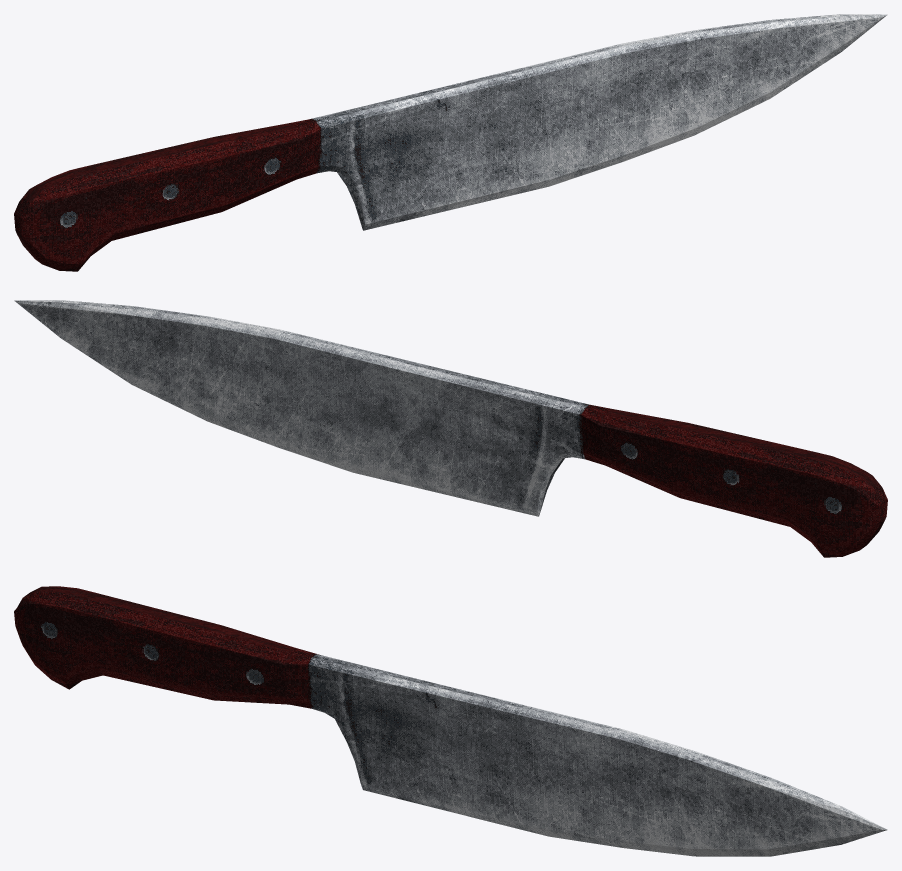
Rendered from psx_kitchen_knife.glb.
3 views of the same model, one above another, from view 1: azimuth 30°, elevation 25°; view 2: azimuth 150°, elevation 25°; view 3: azimuth 330°, elevation 25° (orthographic).
Parts seen in each view (by area): view 1: Kitchen_Knife; view 2: Kitchen_Knife; view 3: Kitchen_Knife.
Boxes of the visible parts, x1=… form: Kitchen_Knife: x1=14, y1=14, x2=887, y2=271; Kitchen_Knife: x1=14, y1=300, x2=887, y2=557; Kitchen_Knife: x1=14, y1=586, x2=887, y2=856.
Bounding box in the file's own units: 30.85 × 4.39 × 1.33.
1 material, 1 textured.
